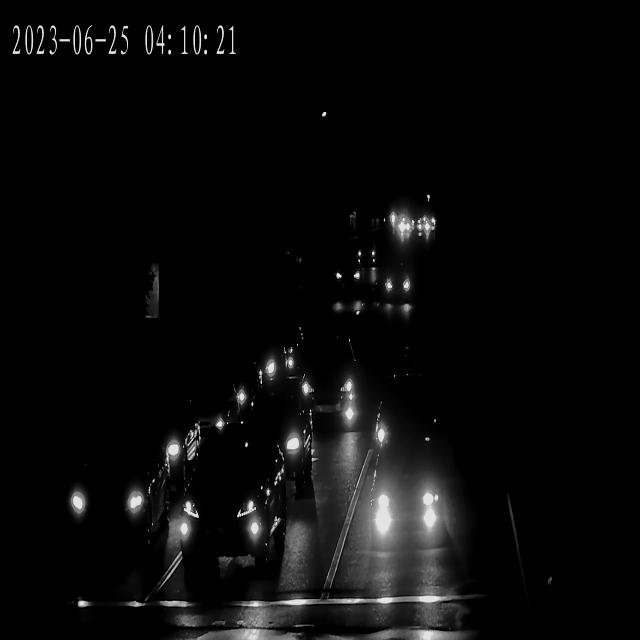Car: (167, 442, 290, 578), (50, 436, 167, 553), (101, 394, 200, 489), (227, 394, 311, 492), (368, 473, 442, 552), (365, 396, 447, 464), (328, 284, 365, 318), (379, 269, 411, 301), (334, 261, 366, 288), (354, 239, 376, 262), (398, 220, 415, 236), (414, 220, 432, 234), (396, 219, 411, 233)
